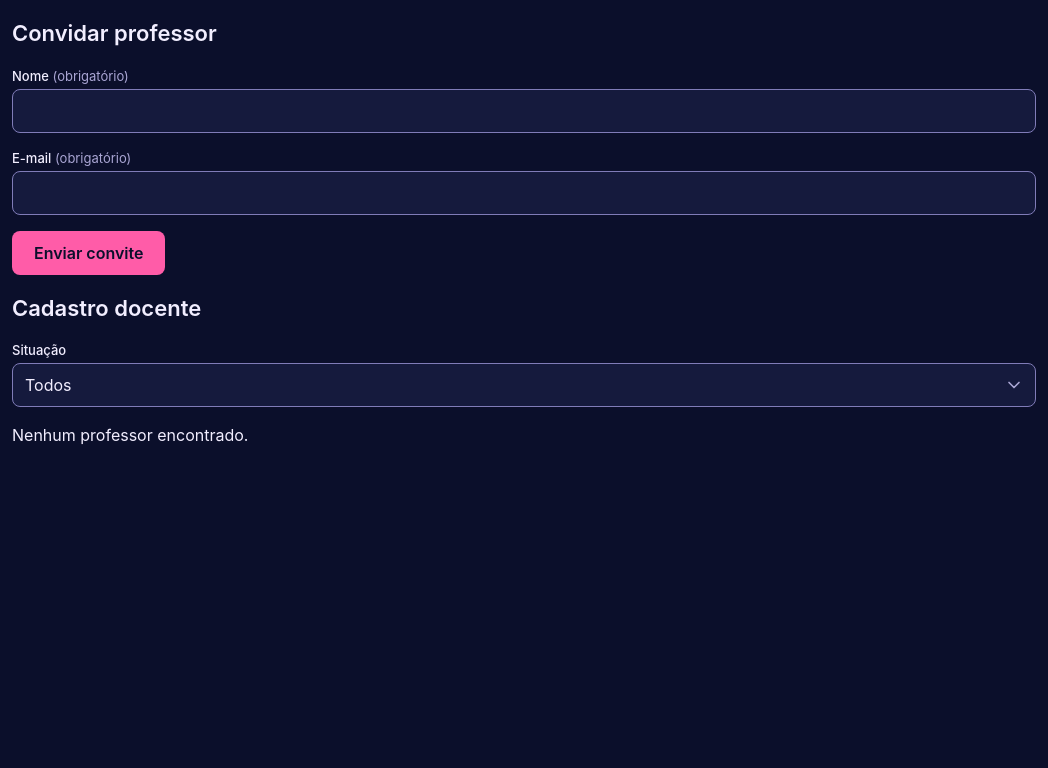
TeachersAdmin (US5, FR-075) › convida enviando só {email, displayName} e recarrega a lista
The image size is (1048, 768).
In the field labelled "Nome (obrigatório)": (524, 110) [12, 88, 1036, 132], type "Nova Prof"
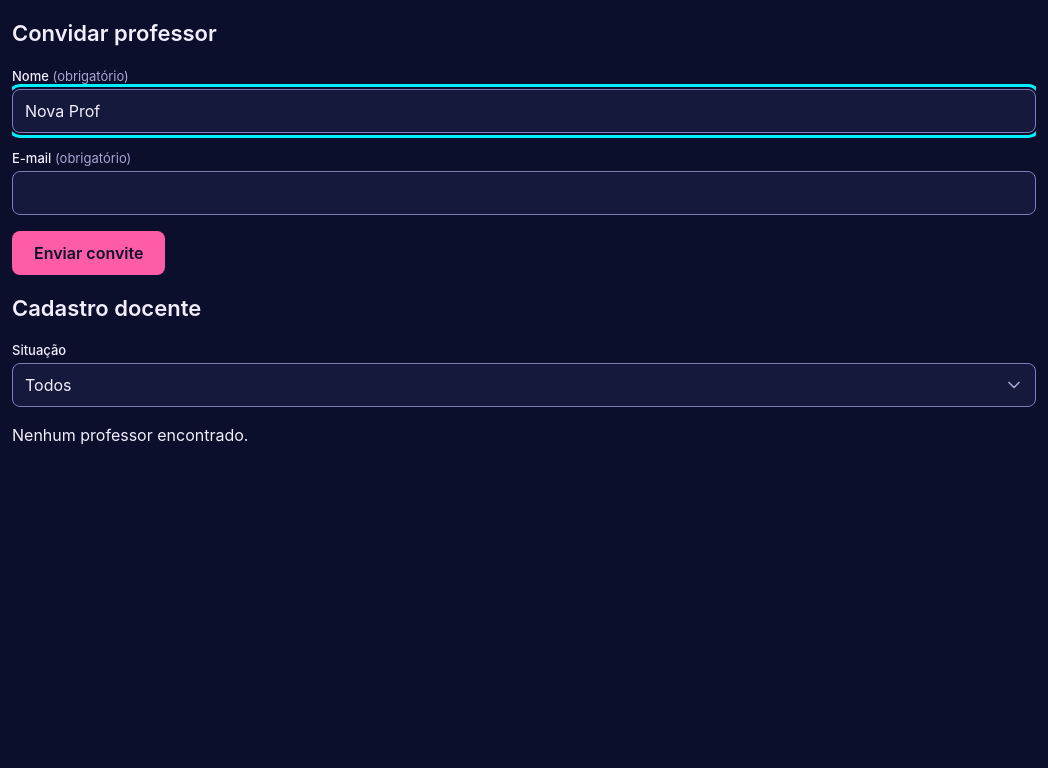
In the field labelled "E-mail (obrigatório)": (524, 192) [12, 170, 1036, 214], type "nova@example.test"
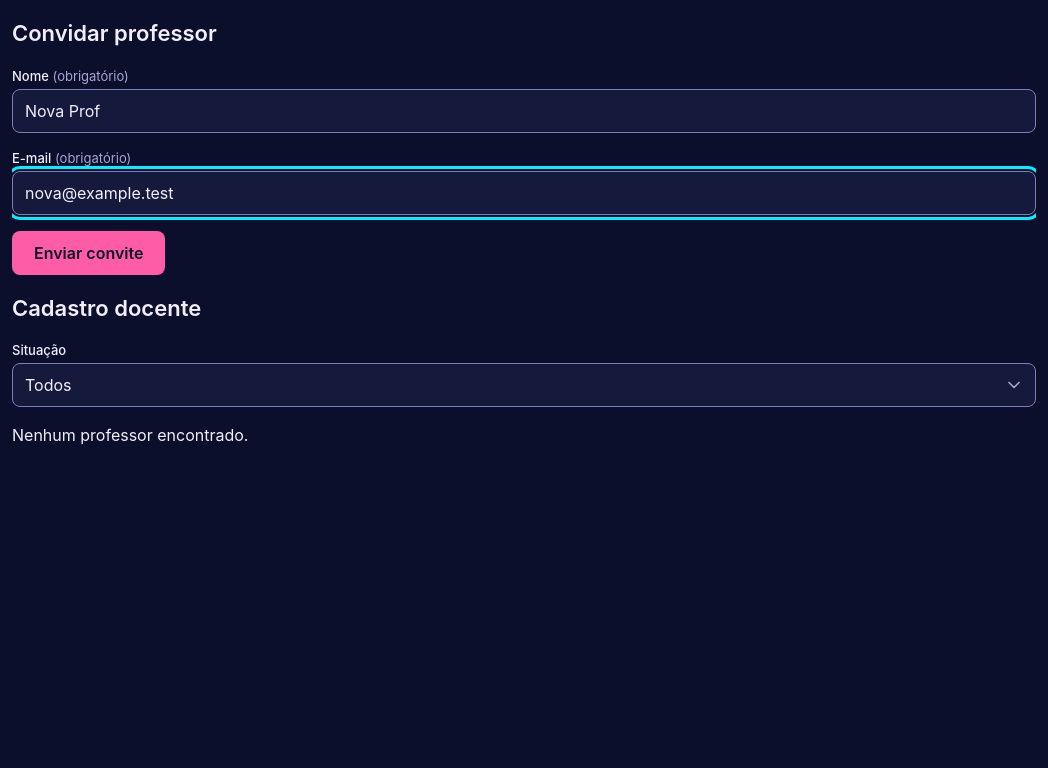
Click the button "Enviar convite": (89, 252) [12, 230, 166, 274]
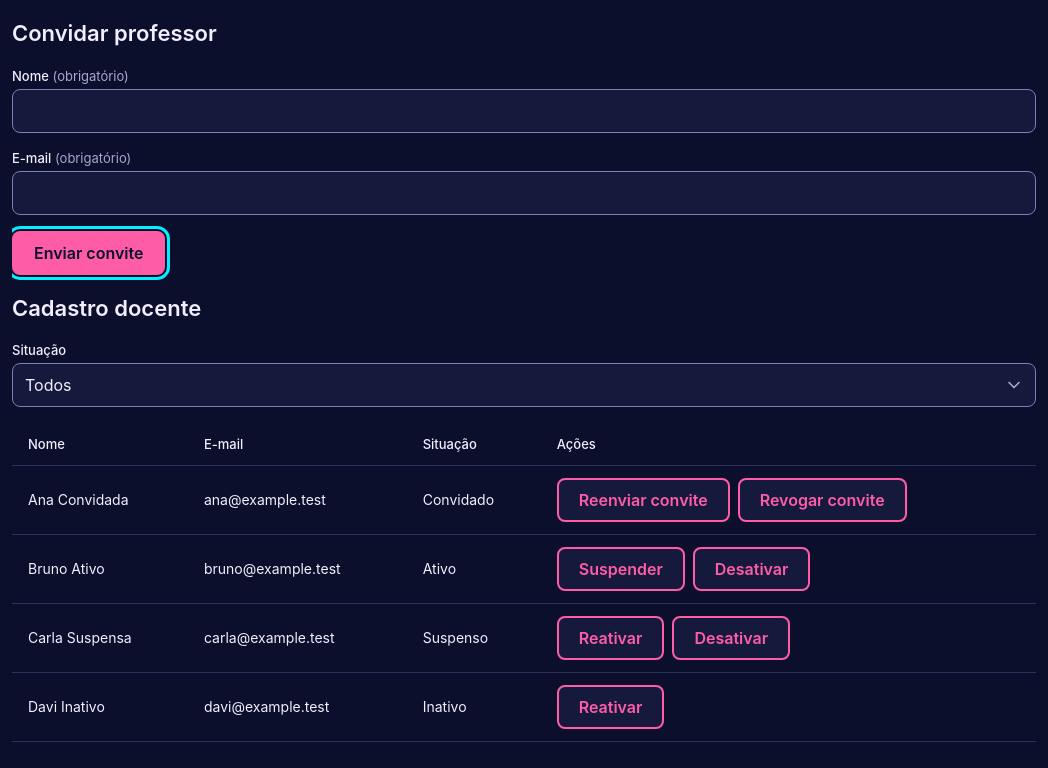
Expected: the text "Bruno Ativo" is shown, [12, 534, 188, 604]
